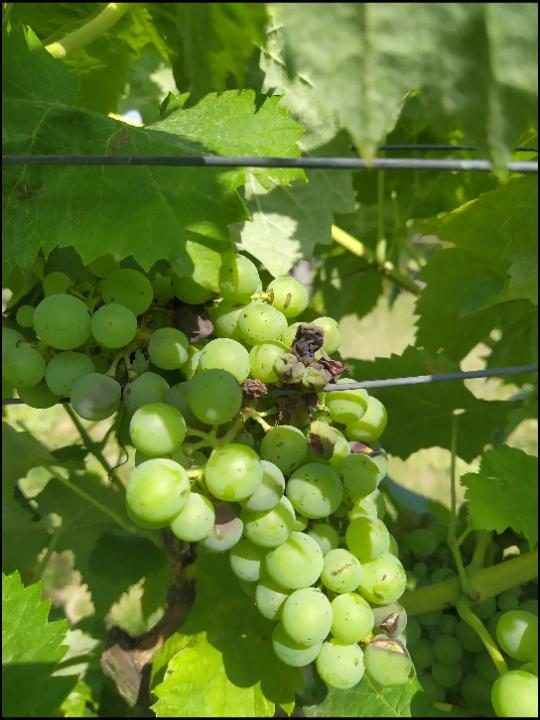grape: (6, 255, 416, 692)
